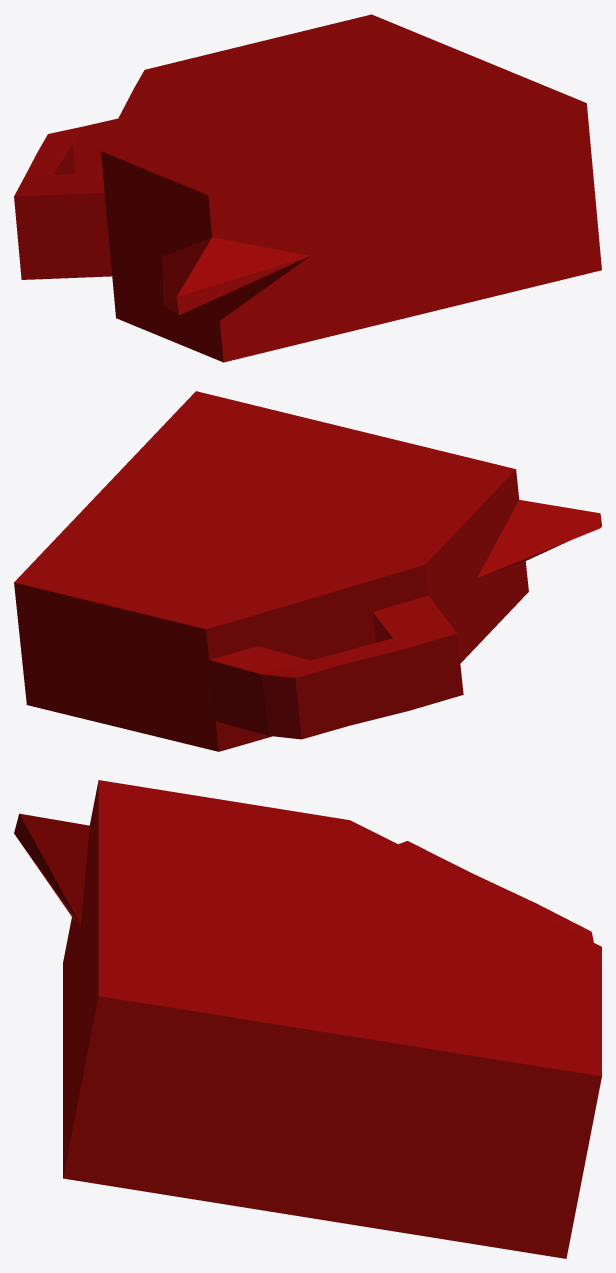
Rendered from benzin.fbx.
3 views of the same model, one above another, from view 1: azimuth 30°, elevation 25°; view 2: azimuth 150°, elevation 25°; view 3: azimuth 270°, elevation 25° (orthographic). The views are drawn at different scales.
Visible parts, largest first — view 1: Куб.005; view 2: Куб.005; view 3: Куб.005.
Part boxes in pixels (x1,y1,x2,y2): Куб.005: (14, 14, 601, 362); Куб.005: (14, 391, 601, 751); Куб.005: (14, 780, 601, 1258).
Size of the model in its own units: 119 by 56.76 by 115.
